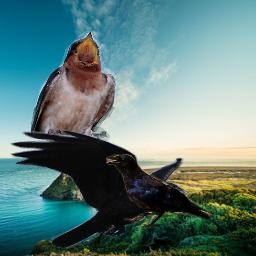Crow: (9, 128, 190, 248), (106, 154, 213, 228)
Swallow: (31, 31, 116, 144)
